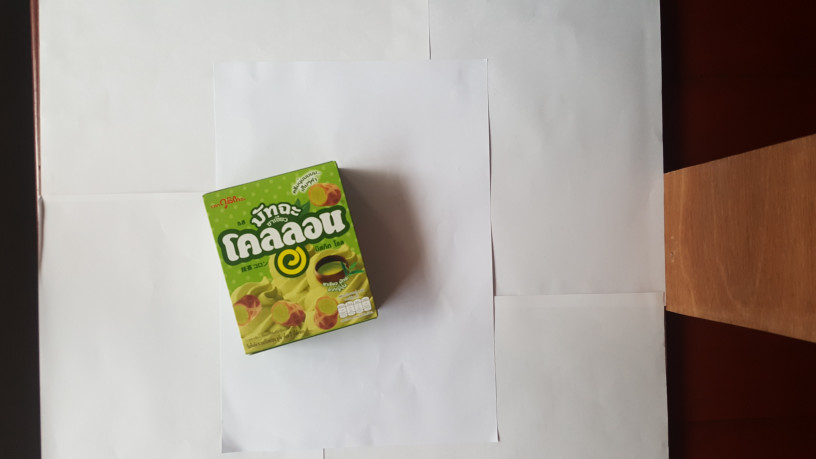collon-matcha: (202, 158, 381, 357)
